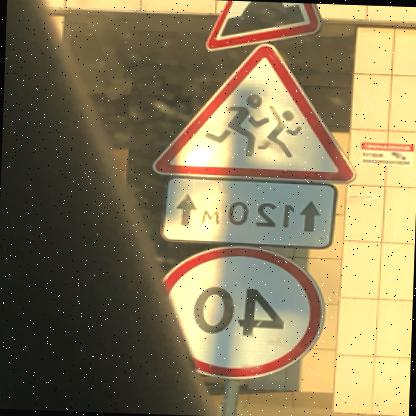speedlimit: (163, 243, 330, 380)
